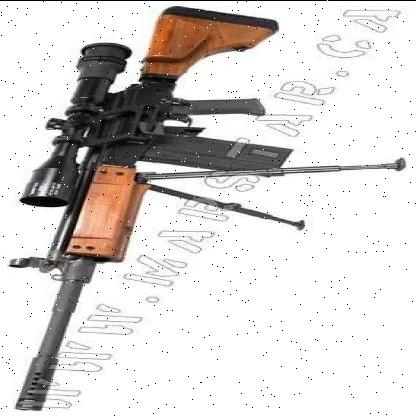rifle: (15, 4, 288, 408)
